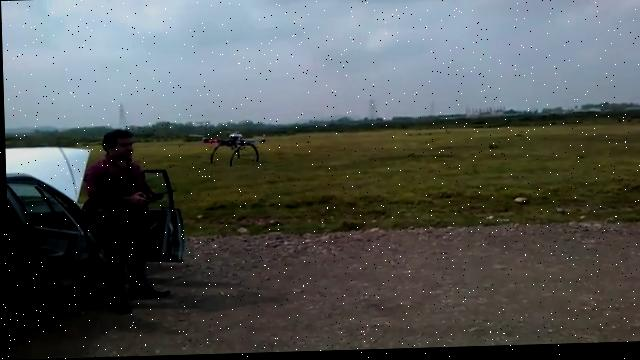drone: (187, 127, 268, 169)
